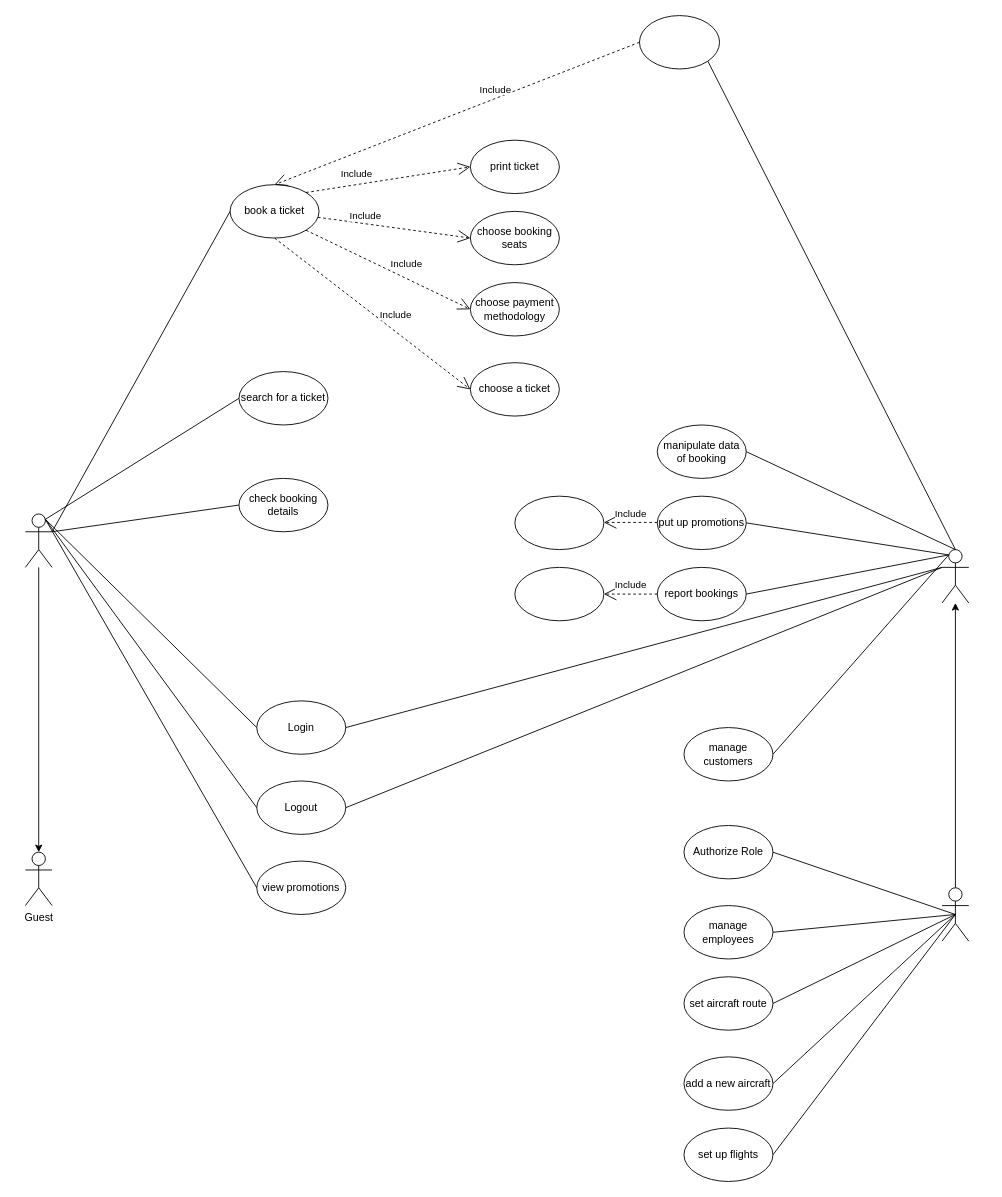
This 1002x1197 diagram has some shape labels left out. The shapes that lost their labels are listed below. From the top down, each one's centre as x and y in pixels, then its label:
pixel 679 42: manage booking
pixel 38 540: Customer
pixel 559 522: manipulate promotions
pixel 559 593: get report list by date/ time
pixel 955 576: Employee
pixel 955 914: Administrator
